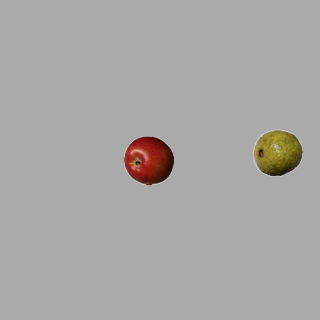Apple Braeburn: (123, 135, 173, 185)
Guava: (252, 127, 302, 177)
